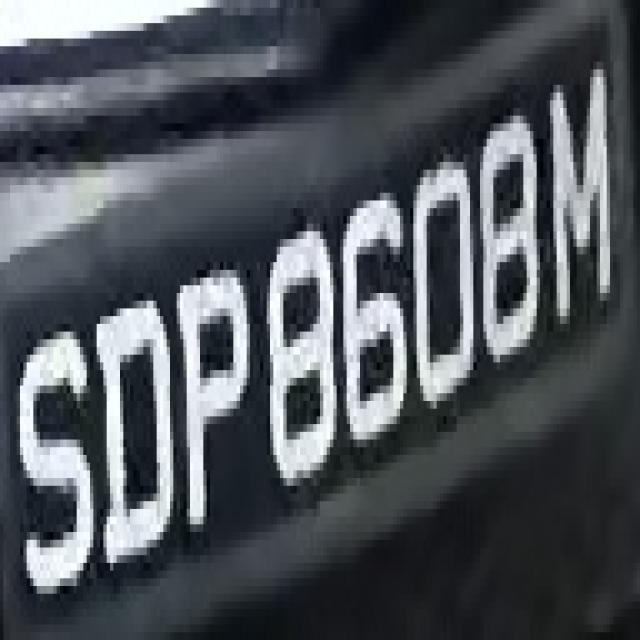0: (400, 154, 487, 424)
6: (333, 185, 410, 455)
8: (473, 100, 550, 393), (257, 224, 340, 486)
D: (90, 285, 183, 586)
M: (536, 46, 616, 308)
P: (177, 255, 253, 555)
S: (10, 301, 100, 632)
